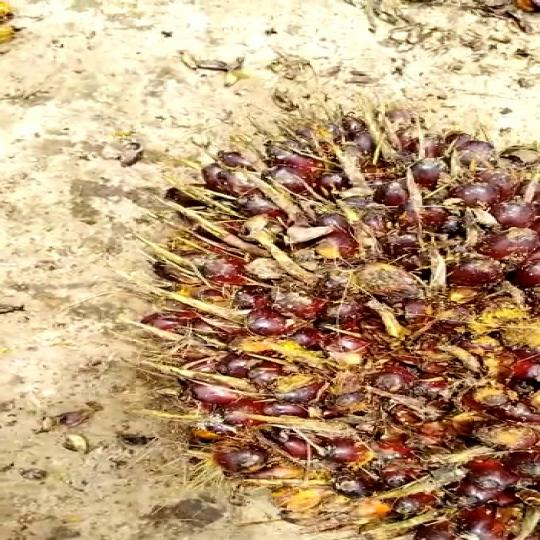masak: (120, 100, 540, 540)
